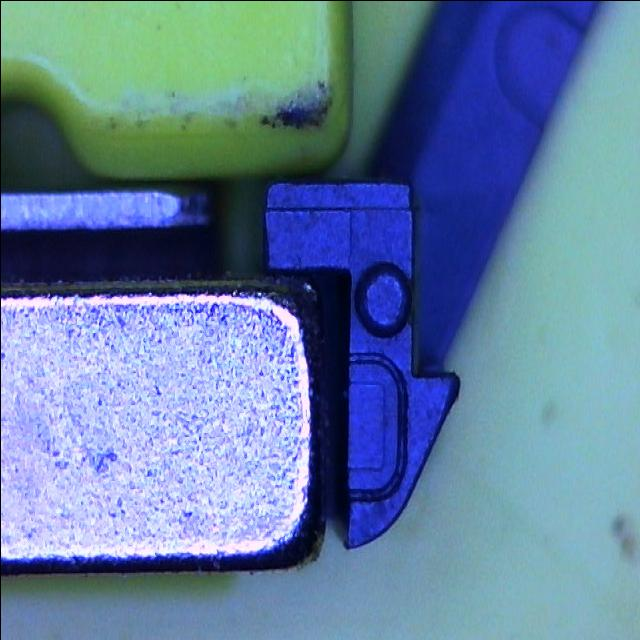noResin: (342, 350, 408, 503)
